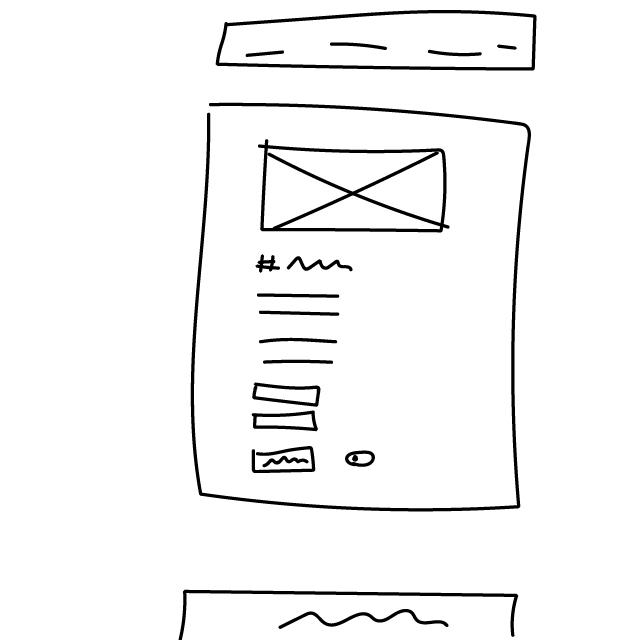button: (248, 443, 321, 477)
checkbox: (344, 450, 377, 470)
container: (183, 94, 550, 536)
footer: (169, 580, 526, 640)
frame: (250, 138, 456, 238)
heading: (257, 250, 360, 283)
input: (251, 379, 324, 409), (250, 411, 325, 434)
nav: (213, 5, 541, 75)
text: (253, 291, 354, 370)
